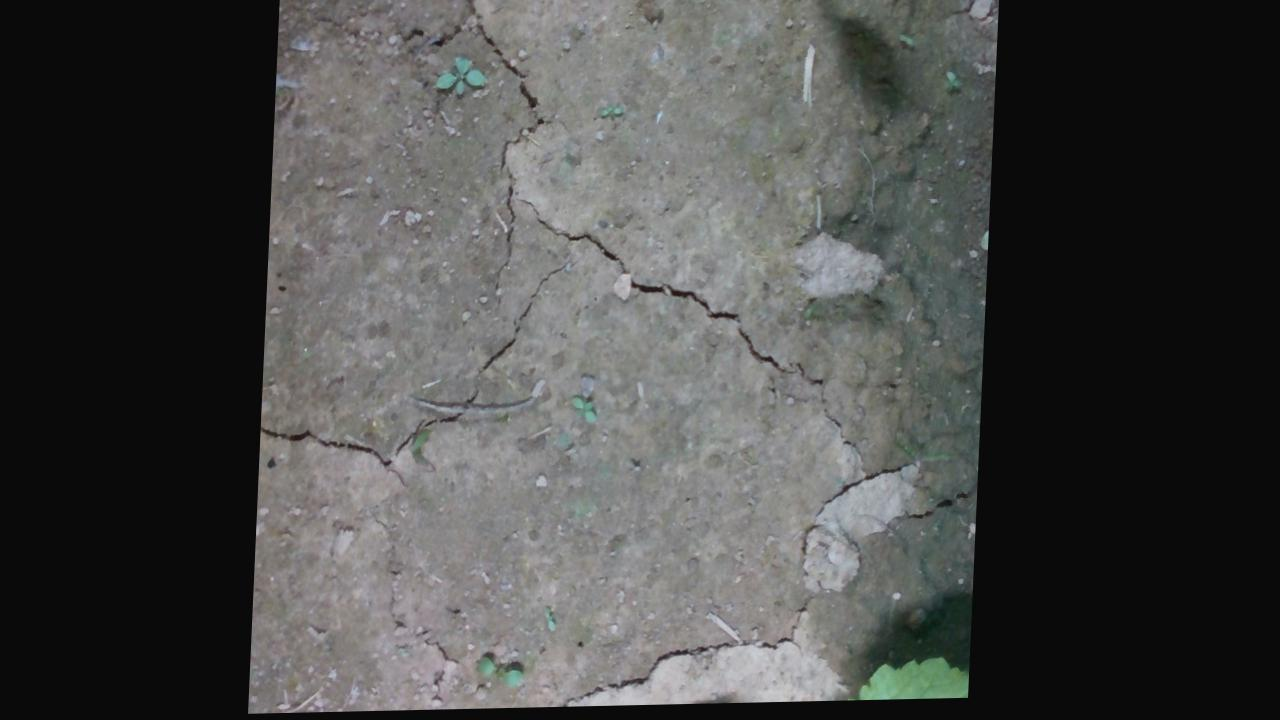weed: (431, 59, 491, 102), (481, 657, 533, 692), (572, 397, 603, 431)
